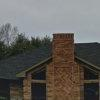Chimney: (46, 23, 82, 68)
